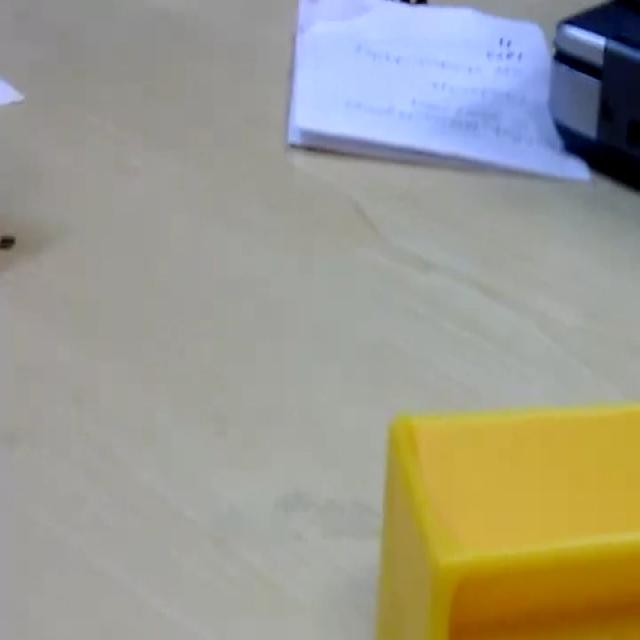yellow_block: (375, 401, 639, 636)
